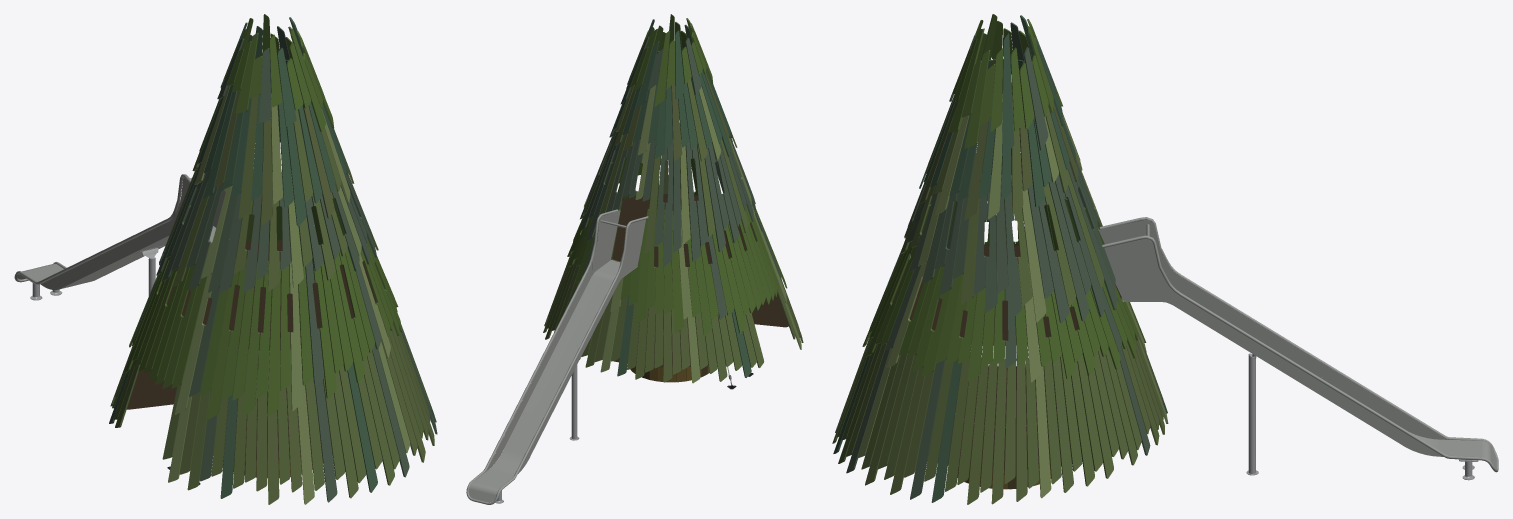
The model's file is rgss-251-forest-tower.glb.
3 renders of one model, left to right at view 1: azimuth 30°, elevation 25°; view 2: azimuth 150°, elevation 25°; view 3: azimuth 270°, elevation 25°, orthographic. The views are drawn at different scales.
Parts seen in each view (by area): view 1: 151.01.21.01907 - WORM 2M DUZ ACIK KROM KAYDIRAK - MONTAJ; view 2: 151.01.21.01907 - WORM 2M DUZ ACIK KROM KAYDIRAK - MONTAJ; view 3: 151.01.21.01907 - WORM 2M DUZ ACIK KROM KAYDIRAK - MONTAJ.
Boxes of the visible parts, x1,y1,x2,y2 form: 151.01.21.01907 - WORM 2M DUZ ACIK KROM KAYDIRAK - MONTAJ: (14,14,437,504); 151.01.21.01907 - WORM 2M DUZ ACIK KROM KAYDIRAK - MONTAJ: (466,14,803,504); 151.01.21.01907 - WORM 2M DUZ ACIK KROM KAYDIRAK - MONTAJ: (832,14,1498,504).
Bounding box in the file's own units: 3.36 × 5.07 × 6.83.
1 material, 1 textured.
